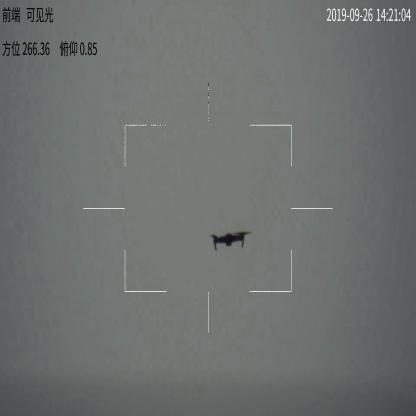uav: (206, 224, 252, 247)
